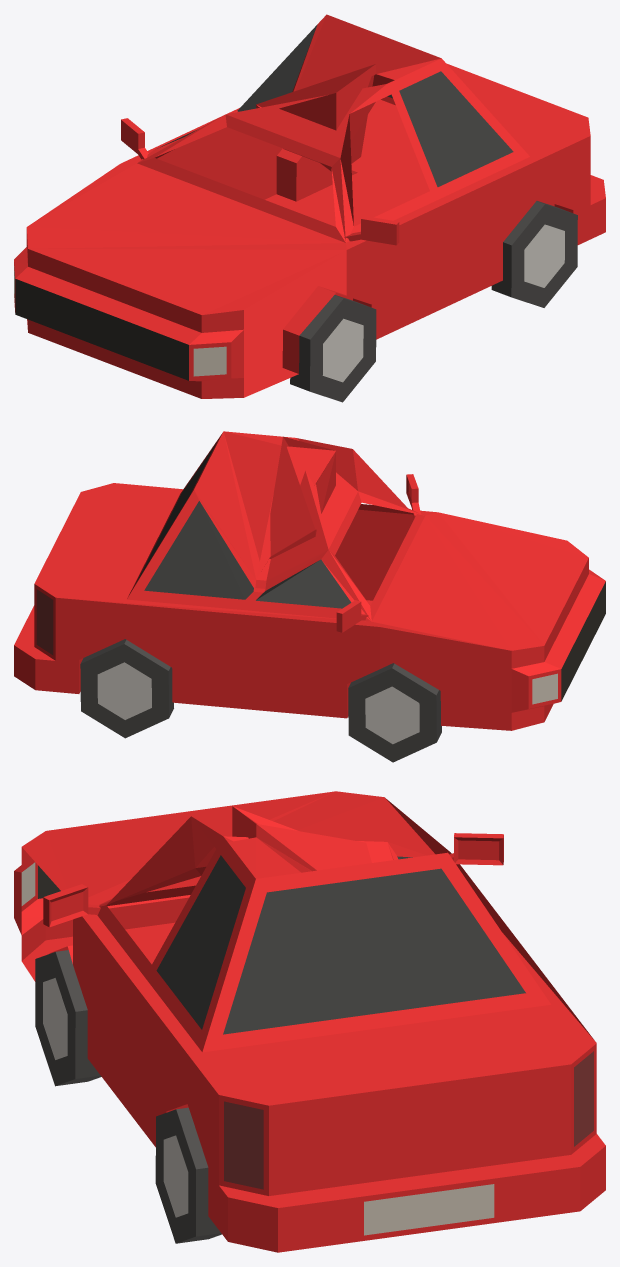
Rendered from 10 Car1.FBX.
3 views of the same model, one above another, from view 1: azimuth 30°, elevation 25°; view 2: azimuth 150°, elevation 25°; view 3: azimuth 270°, elevation 25° (orthographic). The views are drawn at different scales.
Parts seen in each view (by area): view 1: Car1; view 2: Car1; view 3: Car1.
Part boxes in pixels (left/top/right/bottom): Car1: left=14, top=14, right=605, bottom=402; Car1: left=14, top=431, right=605, bottom=762; Car1: left=14, top=791, right=605, bottom=1252.
Size of the model in its own units: 1135 by 486 by 785.
